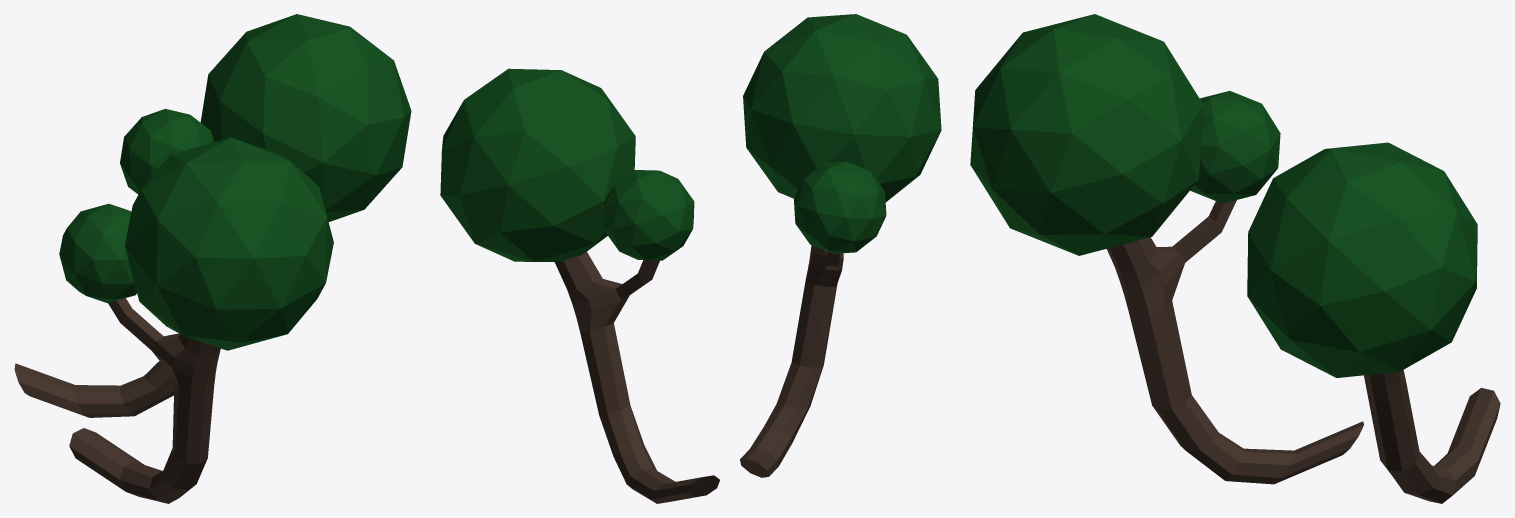
File: cornertrees.fbx
The picture shows the model from 3 angles, left to right: view 1: azimuth 30°, elevation 25°; view 2: azimuth 150°, elevation 25°; view 3: azimuth 270°, elevation 25°; orthographic projection. The views are drawn at different scales.
Parts seen in each view (by area): view 1: tree2, tree1; view 2: tree1, tree2; view 3: tree2, tree1.
Part boxes in pixels (x1,y1,x2,y2): tree2: (59, 137, 333, 503); tree1: (14, 14, 411, 417); tree1: (440, 68, 719, 503); tree2: (740, 14, 941, 477); tree2: (970, 14, 1363, 484); tree1: (1247, 142, 1500, 503).
Bounding box in the file's own units: 6269 × 6223 × 6559.
